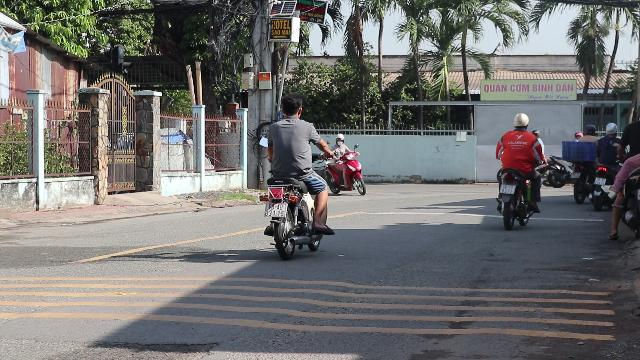helmet: (511, 113, 529, 131)
licenseplate: (265, 202, 287, 218), (500, 184, 516, 194)
motorcyclist: (258, 93, 334, 259), (492, 112, 544, 228)
nohelmet: (278, 94, 304, 118)
